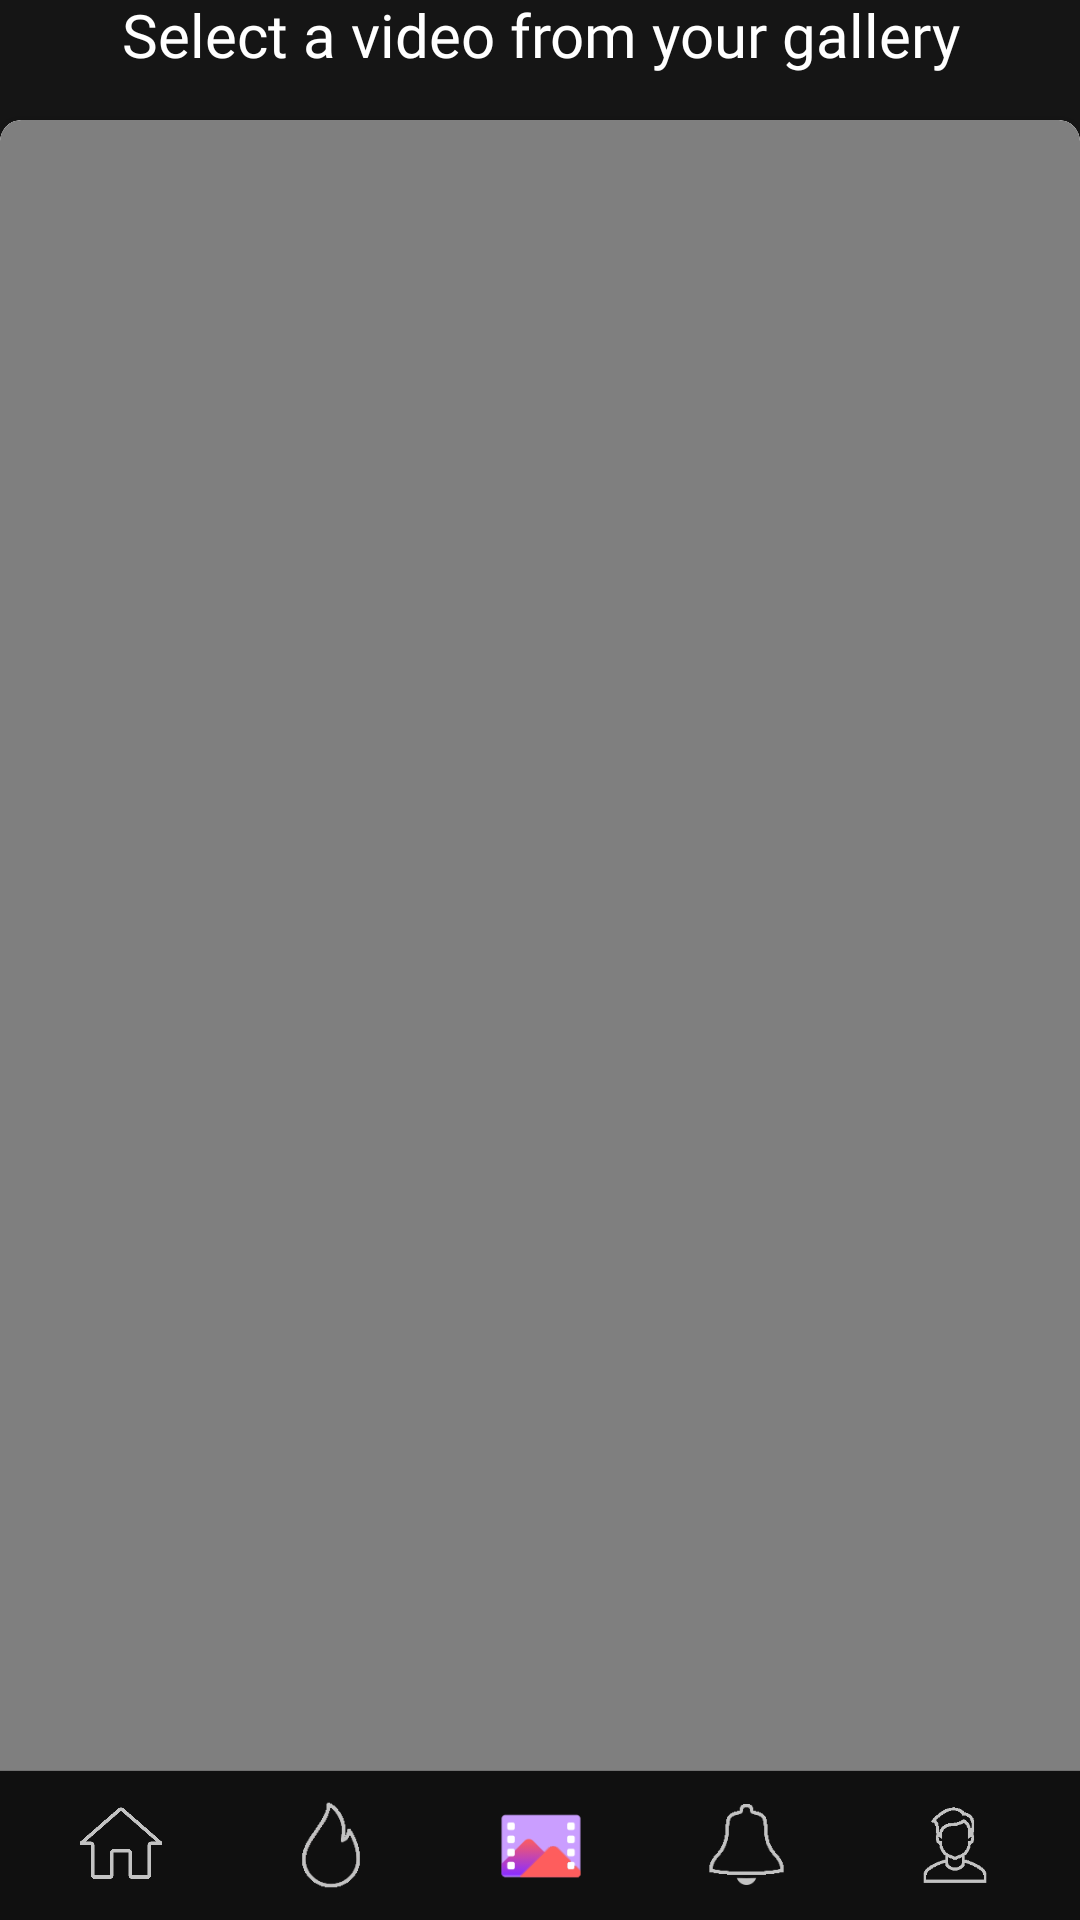

Locate icon controls on the screen. Image size 1080 x 1920, boxes as (x1, y1, x2, y2).
fire: (302, 1802, 360, 1888)
home: (80, 1807, 162, 1879)
notifications: (709, 1804, 784, 1885)
profile: (923, 1807, 987, 1883)
video gallery: (501, 1814, 581, 1878)
